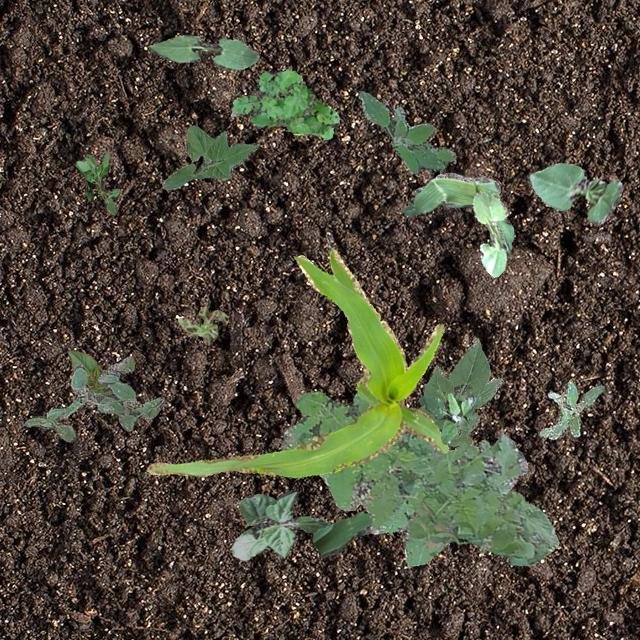crop: (146, 248, 448, 477), (312, 474, 516, 556), (416, 336, 502, 444), (402, 172, 512, 256), (230, 488, 328, 560), (162, 124, 258, 188), (528, 162, 620, 224), (148, 34, 258, 70), (472, 190, 508, 276), (68, 348, 106, 392)
weed: (280, 390, 558, 564), (23, 354, 164, 440), (358, 90, 456, 172), (230, 68, 338, 138), (539, 379, 603, 438), (417, 389, 479, 444), (74, 150, 118, 213), (176, 306, 228, 344)
